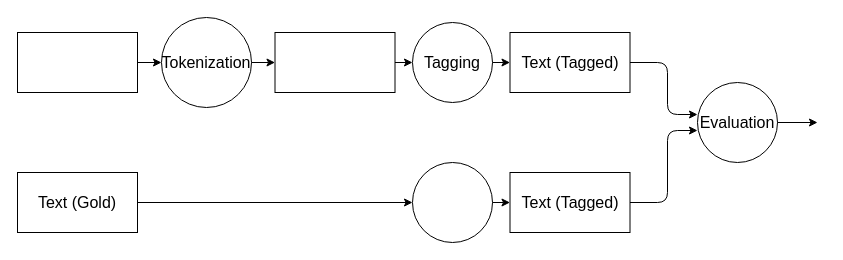
The diagram is 843 pixels wide and 260 high, and some of its shapes have lost their labels. Each missing label, with the box of its shape:
Parsing: (412, 162, 492, 242)
Text (raw): (16, 32, 138, 92)
Token-Text: (274, 32, 395, 92)
